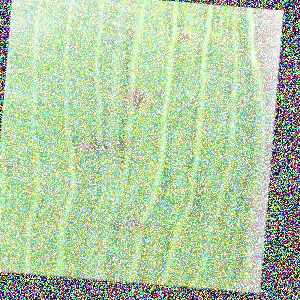Bacterial_Leaf_Blight: (123, 85, 157, 112), (123, 217, 152, 236), (86, 135, 112, 156), (173, 27, 198, 47), (0, 159, 19, 172)
